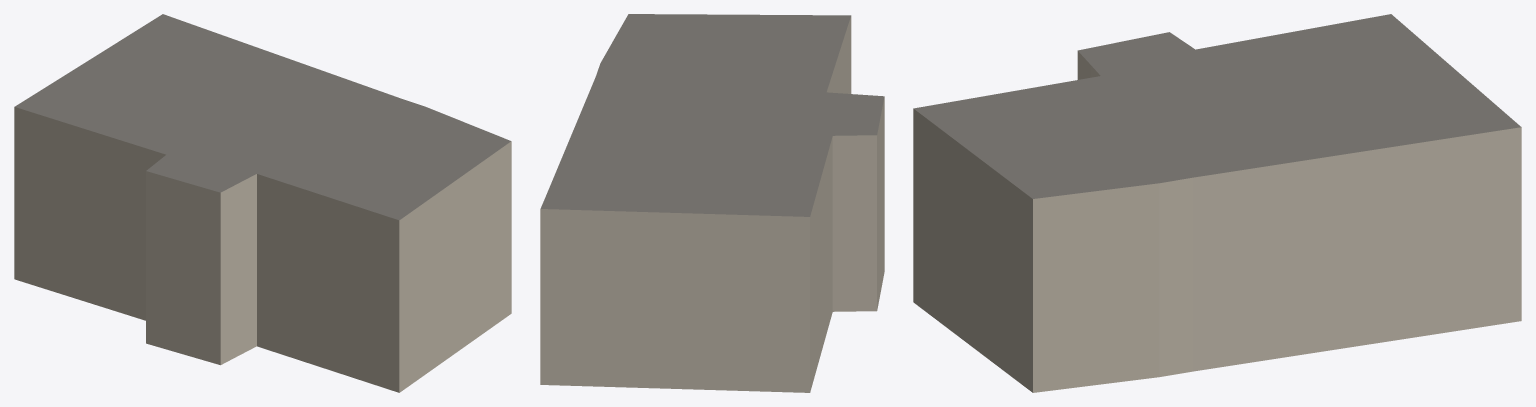
The picture shows the model from 3 angles, left to right: view 1: azimuth 30°, elevation 25°; view 2: azimuth 150°, elevation 25°; view 3: azimuth 270°, elevation 25°; orthographic projection. The views are drawn at different scales.
Parts seen in each view (by area): view 1: HP-w446937014; view 2: HP-w446937014; view 3: HP-w446937014.
Part boxes in pixels (bbox=[...]): HP-w446937014: bbox=[14, 14, 511, 392]; HP-w446937014: bbox=[540, 14, 884, 392]; HP-w446937014: bbox=[913, 14, 1521, 392].
Bounding box in the file's own units: 36.85 × 18 × 51.17.
